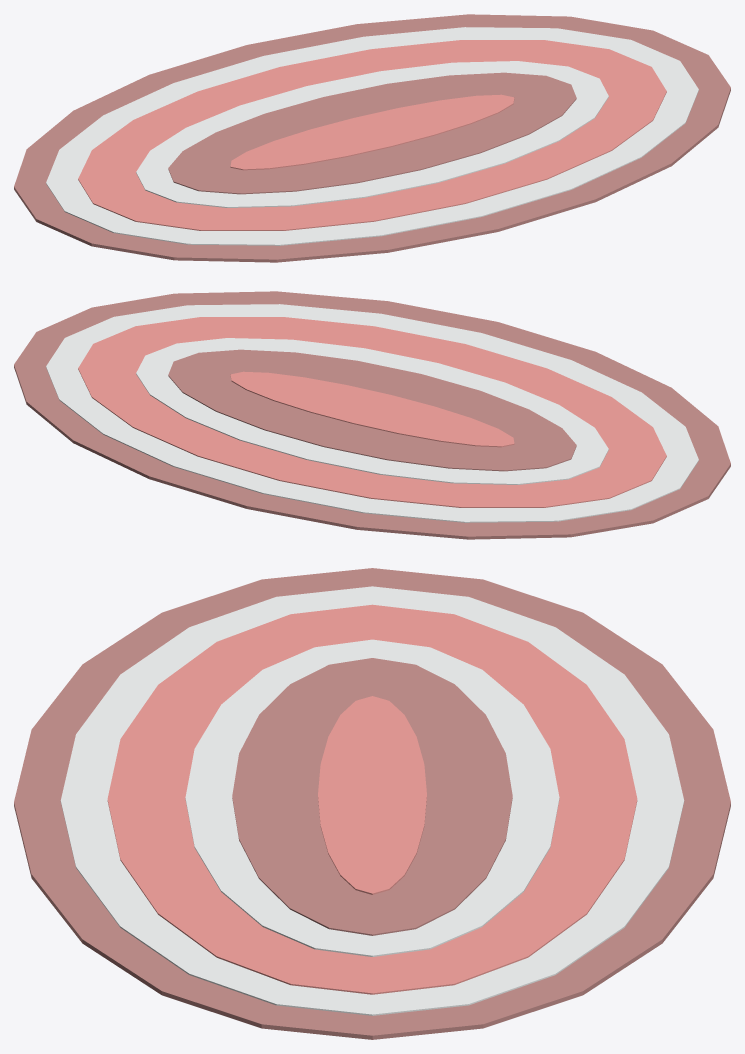
File: rugBraidedOval.glb
3 renders of one model, top to bottom at view 1: azimuth 30°, elevation 25°; view 2: azimuth 150°, elevation 25°; view 3: azimuth 270°, elevation 25°, orthographic. The views are drawn at different scales.
Parts seen in each view (by area): view 1: rugBraidedOval; view 2: rugBraidedOval; view 3: rugBraidedOval.
Part boxes in pixels (<box>): rugBraidedOval: <box>14,14,730,262</box>; rugBraidedOval: <box>14,291,730,539</box>; rugBraidedOval: <box>14,568,730,1039</box>.
Size of the model in its own units: 1.42 by 0.016 by 0.92.
